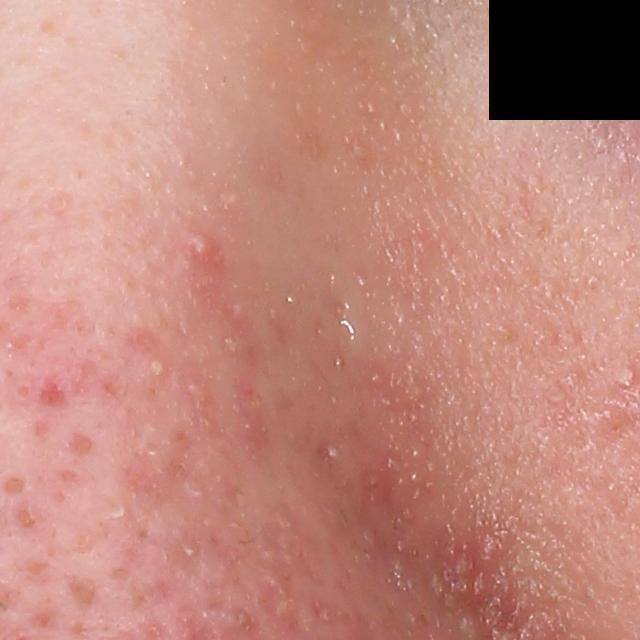pustule: (148, 354, 167, 377)
